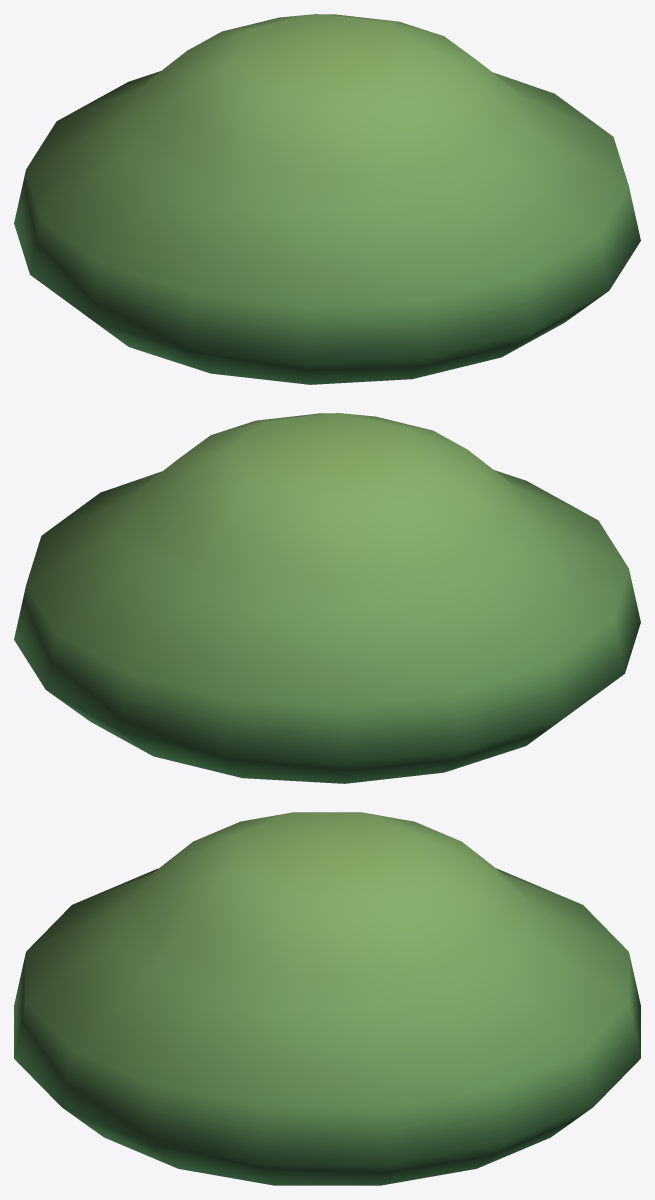
The model's file is bush_3_a-BBC4oodX.glb.
3 views of the same model, one above another, from view 1: azimuth 30°, elevation 25°; view 2: azimuth 150°, elevation 25°; view 3: azimuth 270°, elevation 25° (orthographic).
Visible parts, largest first — view 1: Bush_3_A_Color1; view 2: Bush_3_A_Color1; view 3: Bush_3_A_Color1.
Part boxes in pixels (left/top/right/bottom): Bush_3_A_Color1: left=14, top=14, right=640, bottom=384; Bush_3_A_Color1: left=14, top=413, right=640, bottom=783; Bush_3_A_Color1: left=14, top=812, right=640, bottom=1185.
Bounding box in the file's own units: 2.69 × 1.26 × 2.69.
Materials: 1 (1 with a texture image).
